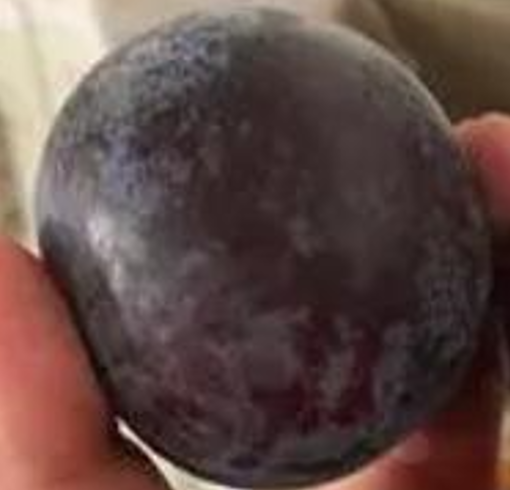plum_A: (33, 9, 494, 489)
